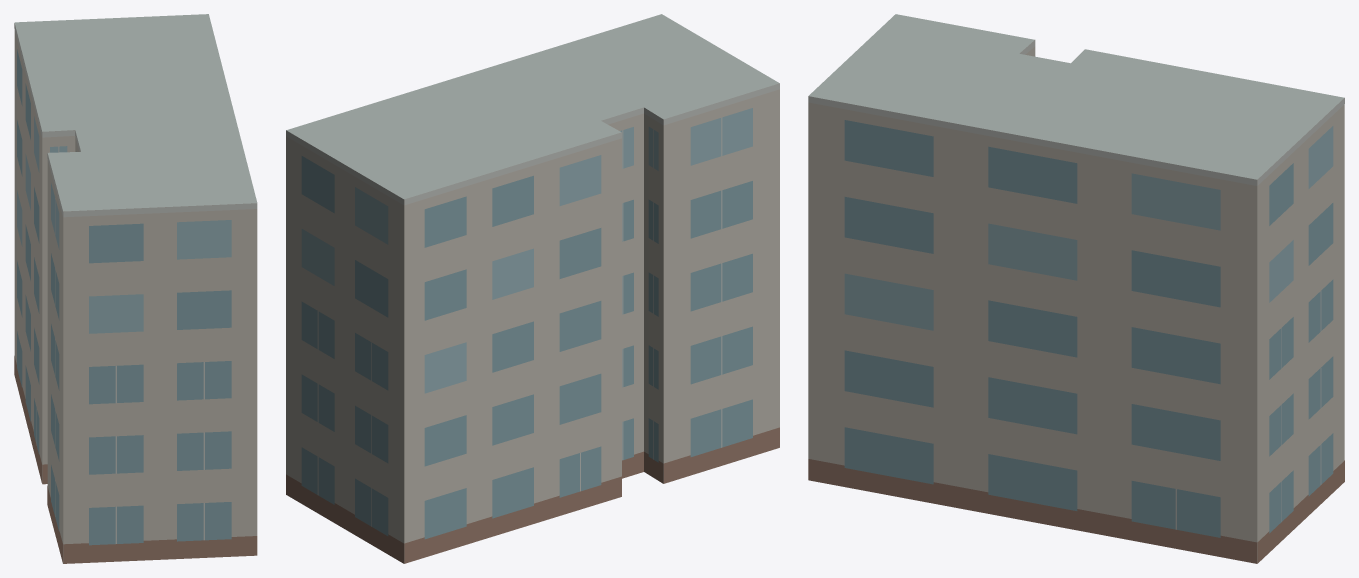
The model's file is survey-upis-32667292.glb.
The picture shows the model from 3 angles, left to right: view 1: azimuth 30°, elevation 25°; view 2: azimuth 150°, elevation 25°; view 3: azimuth 270°, elevation 25°; orthographic projection. The views are drawn at different scales.
Visible parts, largest first — view 1: survey-upis-32667292.tmp; view 2: survey-upis-32667292.tmp; view 3: survey-upis-32667292.tmp.
Boxes of the visible parts, <box> form: survey-upis-32667292.tmp: <box>14,14,257,563</box>; survey-upis-32667292.tmp: <box>286,14,779,563</box>; survey-upis-32667292.tmp: <box>808,14,1344,563</box>.
Bounding box in the file's own units: 13.7 × 14.8 × 18.74.
